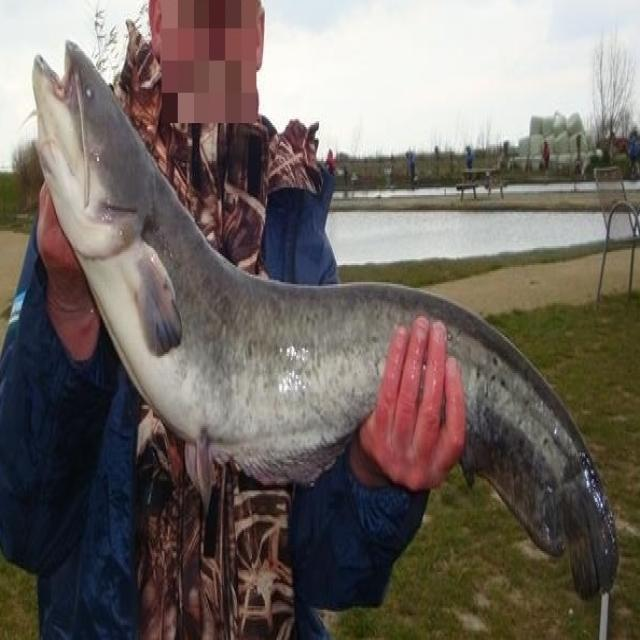Catfish: (8, 36, 630, 618)
